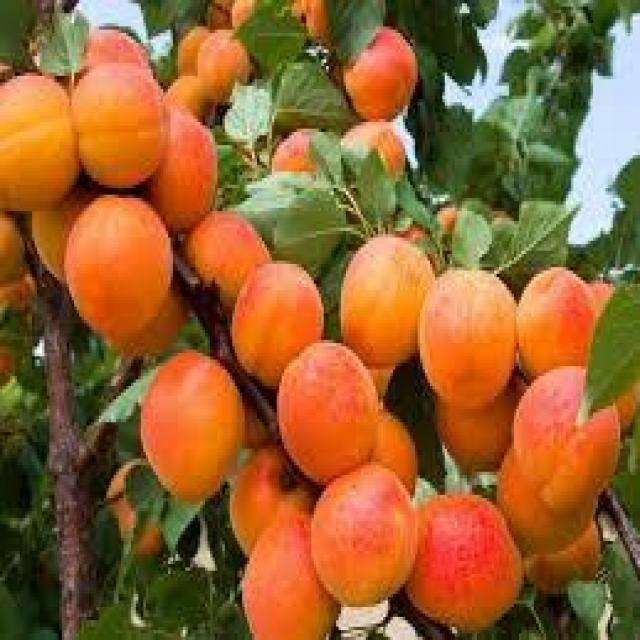kayisi: (412, 486, 525, 640), (62, 187, 176, 337), (510, 364, 628, 508), (137, 348, 245, 498), (242, 485, 344, 640), (275, 336, 382, 481), (311, 466, 420, 603), (420, 268, 518, 416), (331, 235, 432, 368), (72, 55, 167, 189), (230, 256, 323, 392), (0, 59, 81, 213), (227, 428, 318, 562), (144, 104, 219, 242), (512, 267, 594, 372), (186, 207, 272, 307), (337, 23, 424, 119), (195, 26, 253, 101), (77, 27, 155, 80), (160, 69, 218, 125), (175, 22, 217, 82)
yaprak: (571, 277, 640, 426), (234, 182, 351, 266), (129, 457, 213, 552), (134, 557, 220, 640), (271, 58, 356, 134), (504, 192, 586, 267), (230, 0, 310, 71), (428, 89, 478, 199), (32, 0, 92, 80), (432, 15, 491, 96), (324, 0, 388, 73), (353, 142, 403, 230), (225, 69, 278, 147), (520, 135, 582, 200), (597, 531, 640, 619), (299, 128, 352, 198), (562, 572, 610, 638), (447, 204, 494, 267), (606, 201, 640, 274), (608, 148, 640, 208), (410, 0, 465, 30), (469, 0, 502, 34)
